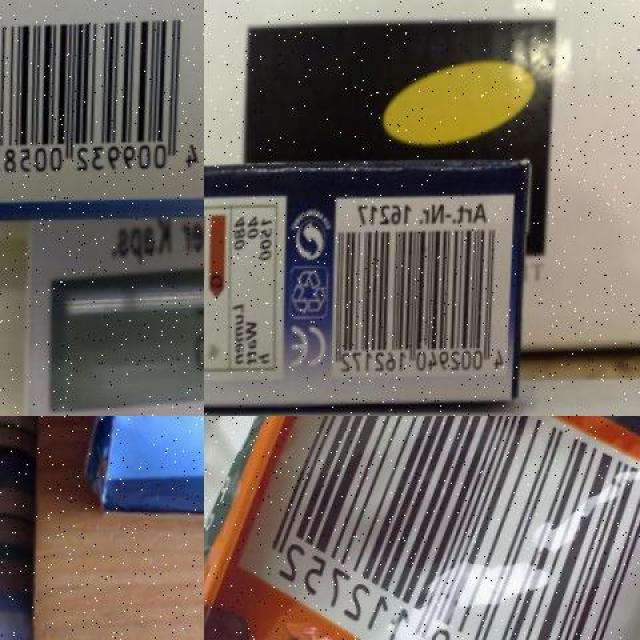Barcode: (232, 416, 640, 640), (0, 0, 204, 184), (331, 197, 516, 378)
